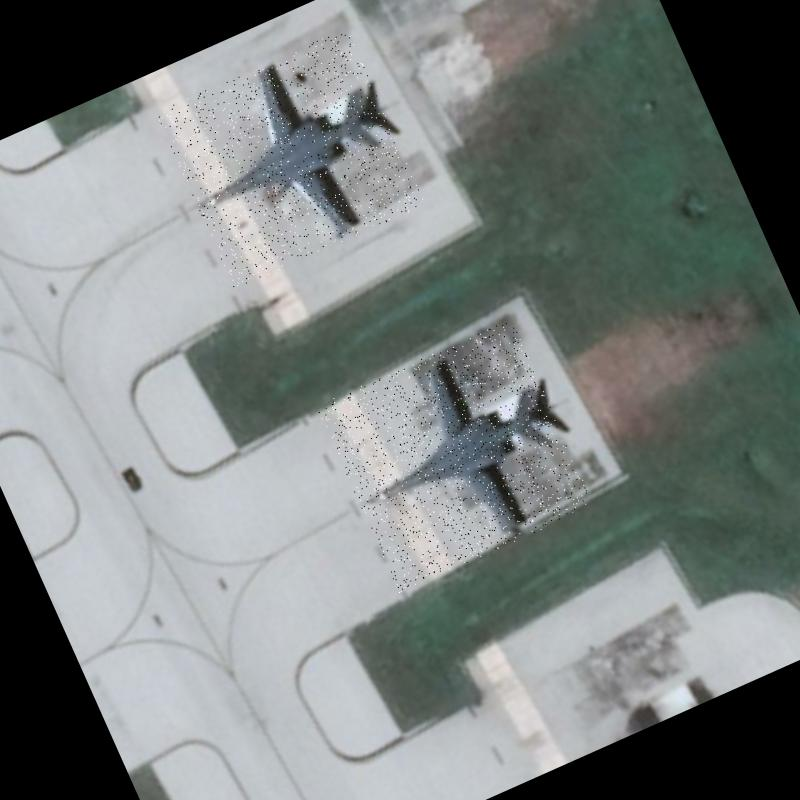A10: (316, 319, 595, 593), (156, 27, 426, 290)
